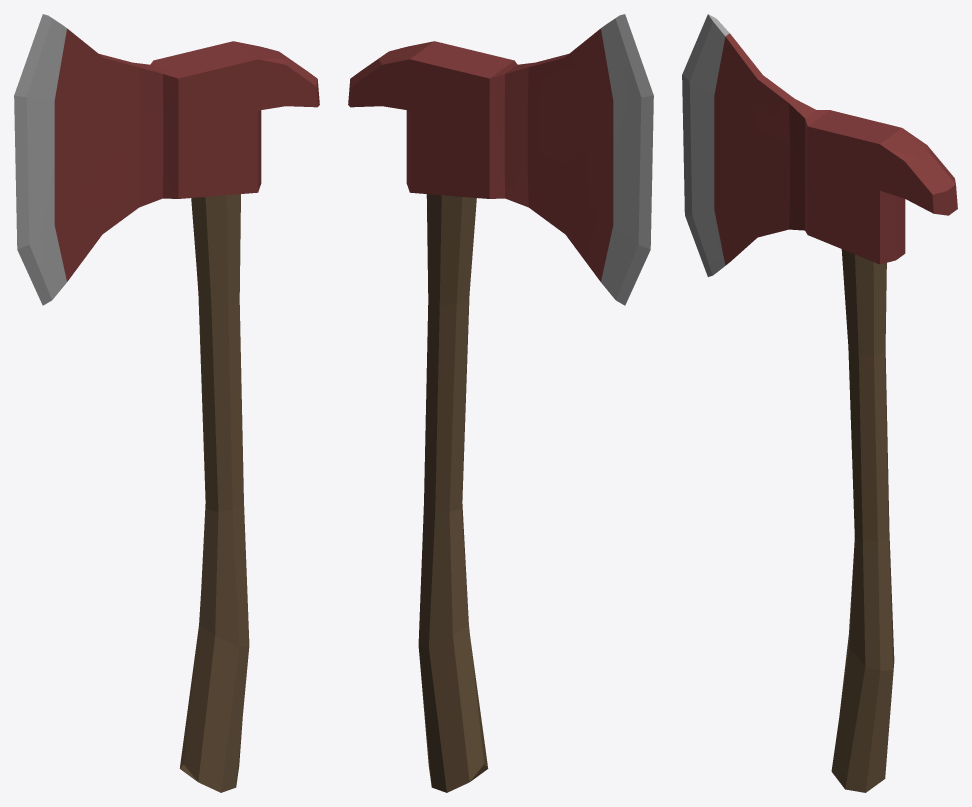
The model's file is Axe.glb.
3 views of the same model, side by side, from view 1: azimuth 30°, elevation 25°; view 2: azimuth 150°, elevation 25°; view 3: azimuth 330°, elevation 25° (orthographic). The views are drawn at different scales.
Parts seen in each view (by area): view 1: Axe; view 2: Axe; view 3: Axe.
Boxes of the visible parts, x1,y1,x2,y2 form: Axe: [14, 14, 319, 792]; Axe: [348, 14, 653, 792]; Axe: [682, 14, 957, 792].
Bounding box in the file's own units: 0.3155 × 0.814 × 0.0476.
